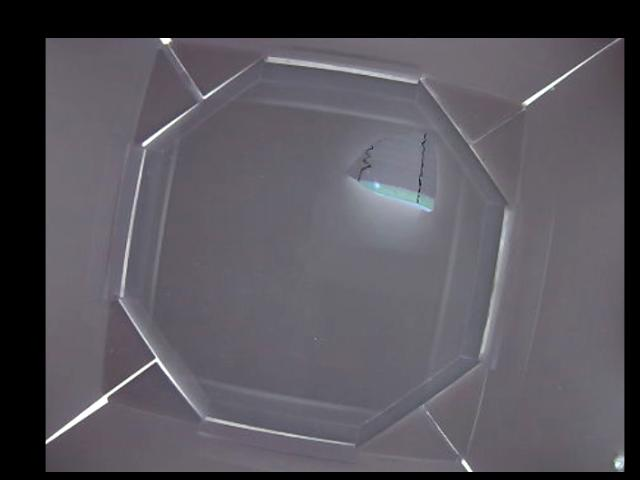China: (347, 131, 435, 211)
